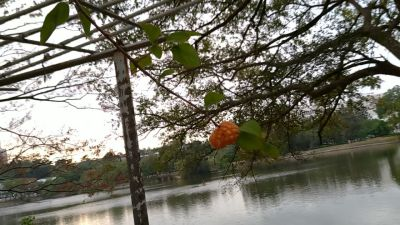eggs: (208, 120, 242, 151)
